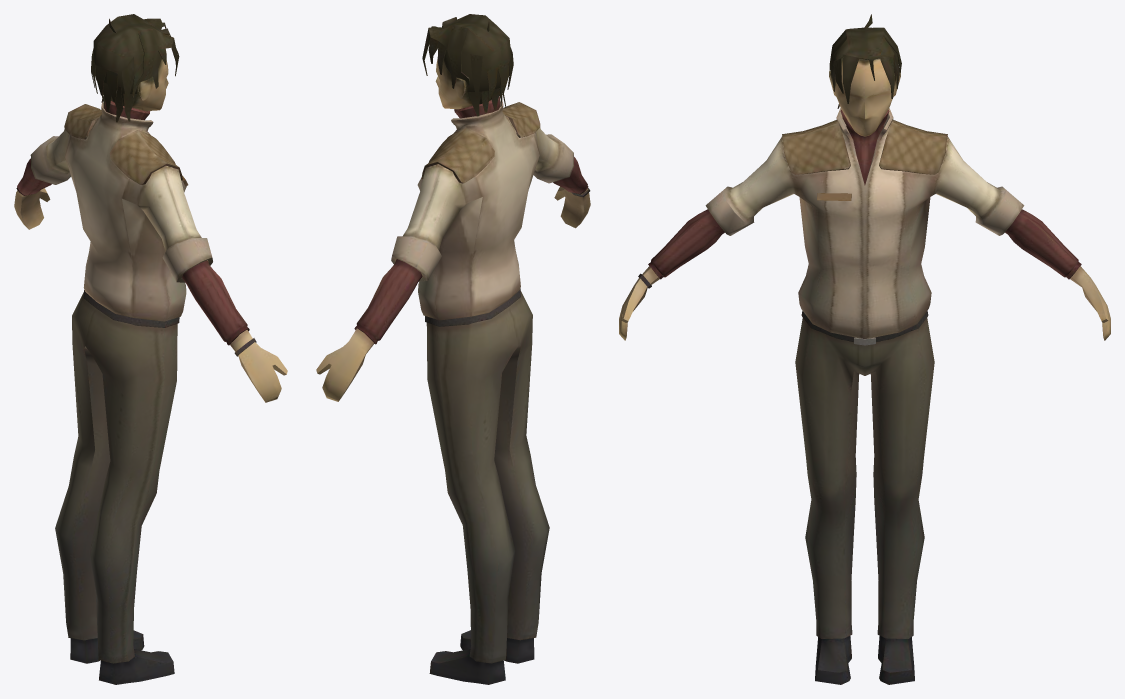
File: MainHero.fbx
3 views of the same model, side by side, from view 1: azimuth 30°, elevation 25°; view 2: azimuth 150°, elevation 25°; view 3: azimuth 270°, elevation 25° (orthographic).
Parts seen in each view (by area): view 1: Cube.004; view 2: Cube.004; view 3: Cube.004.
Part boxes in pixels (<box>): Cube.004: <box>14,14,287,684</box>; Cube.004: <box>316,14,590,684</box>; Cube.004: <box>619,14,1110,684</box>.
Bounding box in the file's own units: 69.93 × 299 × 437.
1 material, 1 textured.
